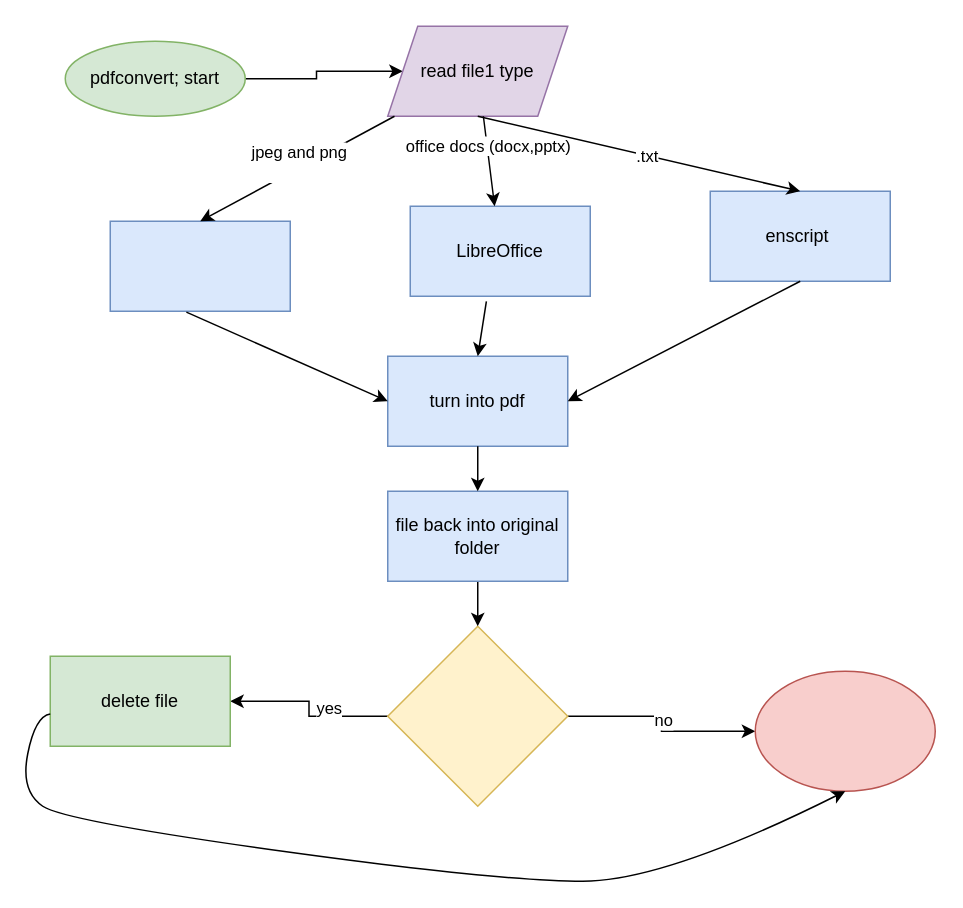
This 963x908 diagram has some shape labels left out. The shapes that lost their labels are listed below. From the top down, each one's box as (x1, y1, x2, y2) in pixels, then its label:
(109, 220, 290, 311): ImageMagick
(386, 625, 568, 806): delete old file?
(754, 670, 935, 791): return completed; end program
